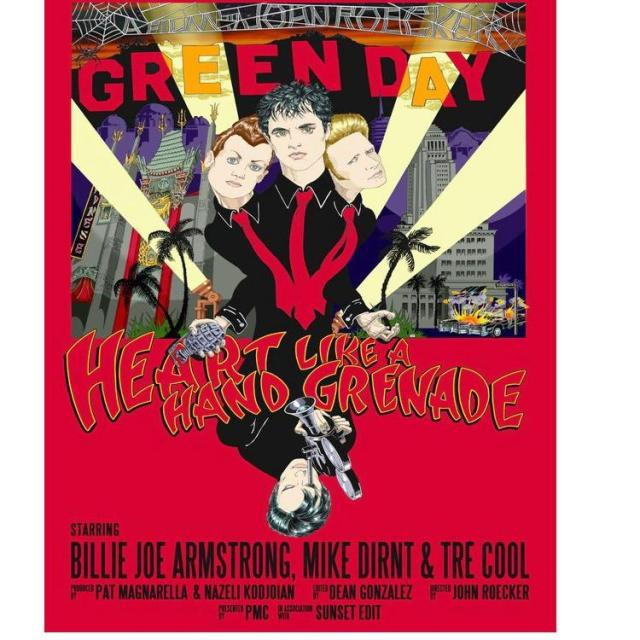grenade: (169, 322, 227, 364)
